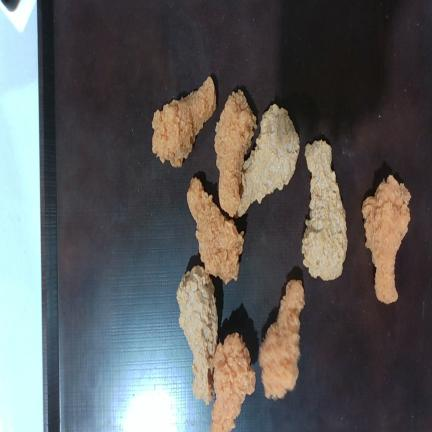chicken: (236, 104, 299, 216), (301, 140, 347, 280), (362, 175, 410, 304), (152, 76, 216, 167), (187, 179, 243, 283), (177, 266, 218, 404), (259, 280, 304, 398), (215, 89, 256, 217), (210, 332, 255, 431)
